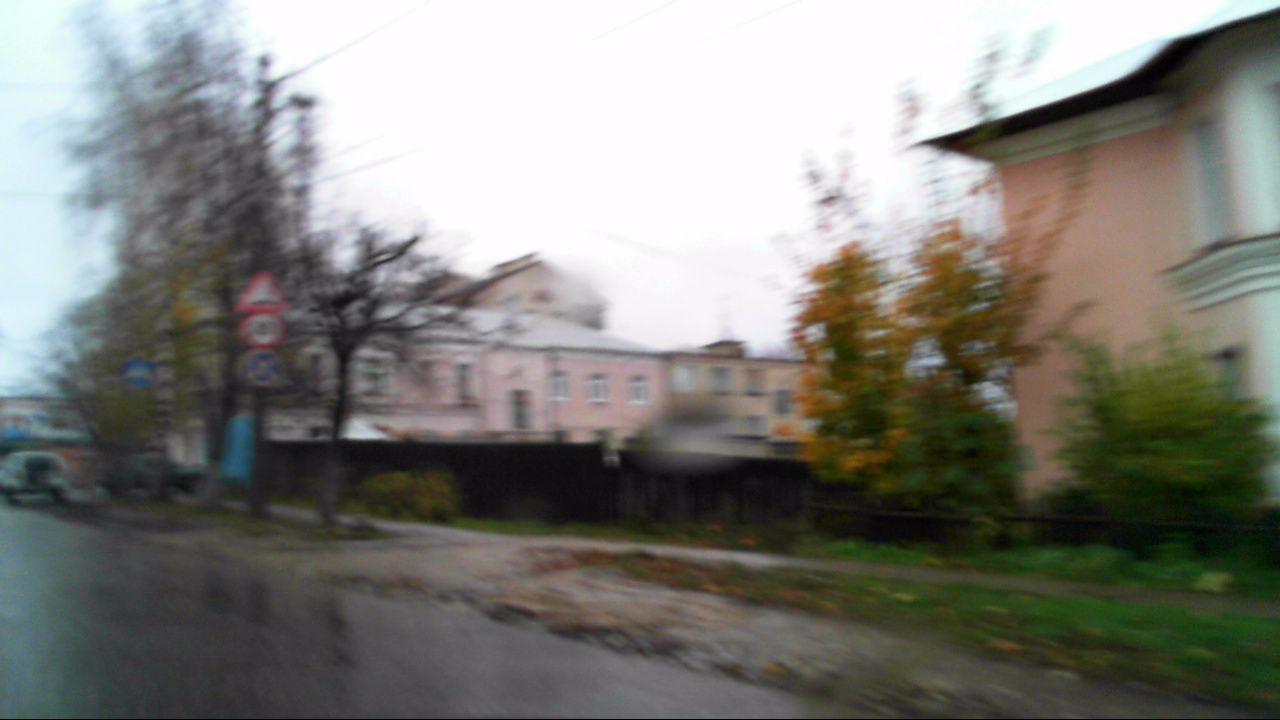No Parking: (238, 348, 282, 387)
